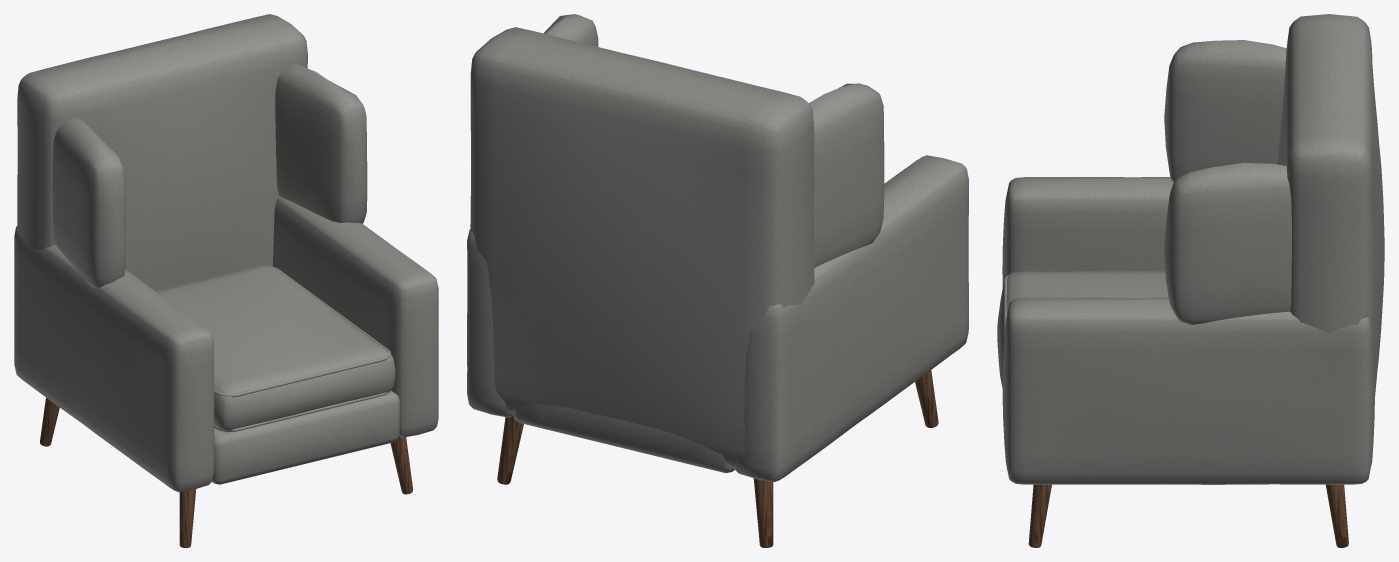
Rendered from butaca_orejero_gris.glb.
3 views of the same model, side by side, from view 1: azimuth 30°, elevation 25°; view 2: azimuth 150°, elevation 25°; view 3: azimuth 270°, elevation 25° (orthographic). The views are drawn at different scales.
Visible parts, largest first — view 1: butaca_orejero_gris; view 2: butaca_orejero_gris; view 3: butaca_orejero_gris.
Part boxes in pixels (bbox=[...]): butaca_orejero_gris: bbox=[14, 14, 438, 547]; butaca_orejero_gris: bbox=[467, 14, 968, 547]; butaca_orejero_gris: bbox=[997, 14, 1384, 547].
Bounding box in the file's own units: 0.8217 × 1.07 × 0.9111.
2 materials, 2 textured.
